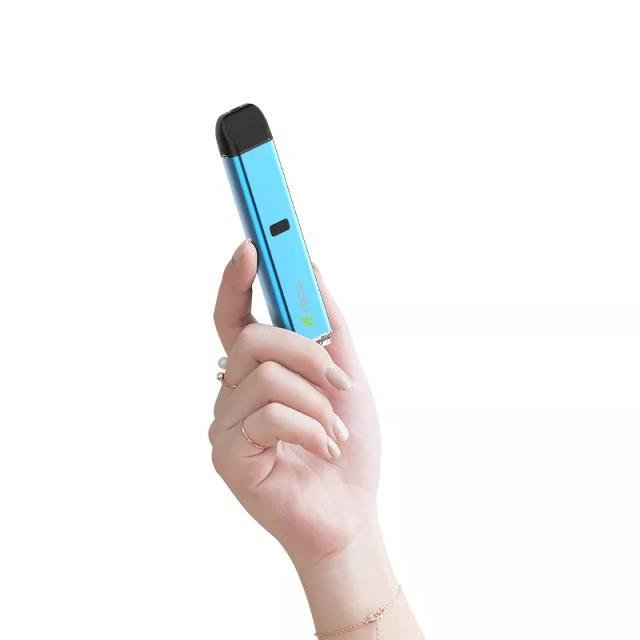Hazard: (214, 100, 334, 350)
